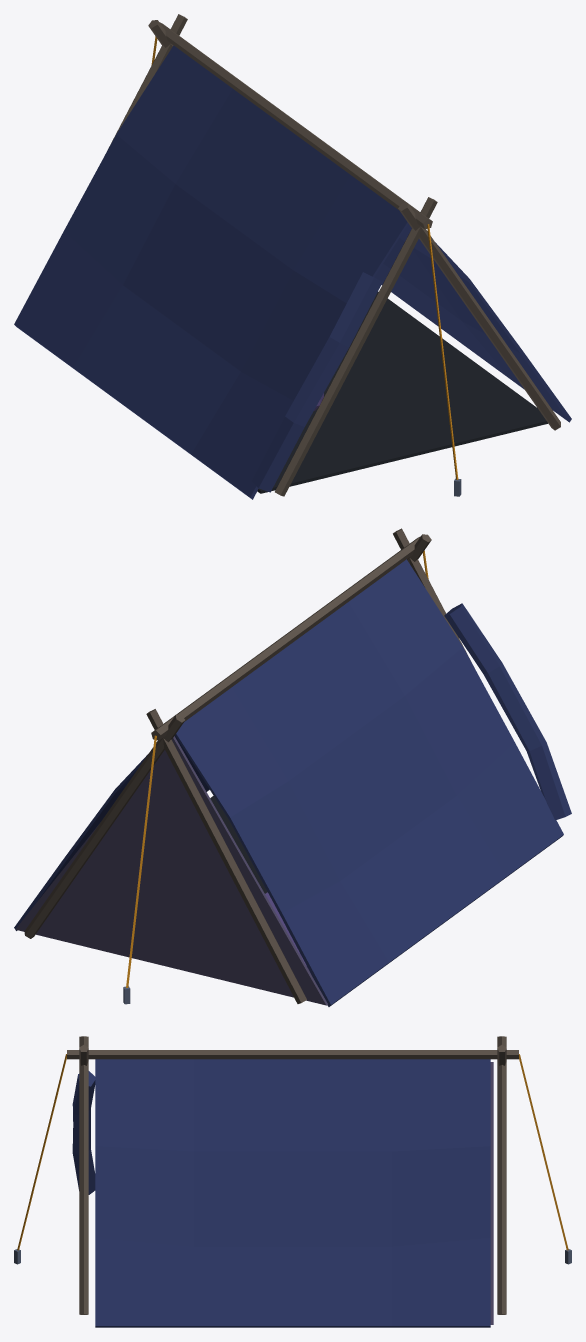
File: hw_camp_tent_ridge.glb
3 views of the same model, one above another, from view 1: azimuth 30°, elevation 25°; view 2: azimuth 150°, elevation 25°; view 3: azimuth 270°, elevation 25° (orthographic). The views are drawn at different scales.
Visible parts, largest first — view 1: tarp, ground_sheet, frame, guy_rope; view 2: tarp, back_panel, frame, guy_rope; view 3: tarp, frame, back_panel, guy_rope.
Boxes of the visible parts, left/top/right/bottom form: tarp: left=14, top=45, right=571, bottom=499; ground_sheet: left=257, top=291, right=547, bottom=493; frame: left=105, top=14, right=560, bottom=496; guy_rope: left=151, top=36, right=458, bottom=479; tarp: left=14, top=559, right=571, bottom=1006; back_panel: left=15, top=736, right=327, bottom=1005; frame: left=24, top=528, right=471, bottom=1003; guy_rope: left=126, top=550, right=428, bottom=987; tarp: left=72, top=1059, right=490, bottom=1327; frame: left=67, top=1036, right=518, bottom=1314; back_panel: left=490, top=1062, right=493, bottom=1324; guy_rope: left=17, top=1054, right=568, bottom=1250.
Bounding box in the file's own units: 2.2 × 1.74 × 3.95.
